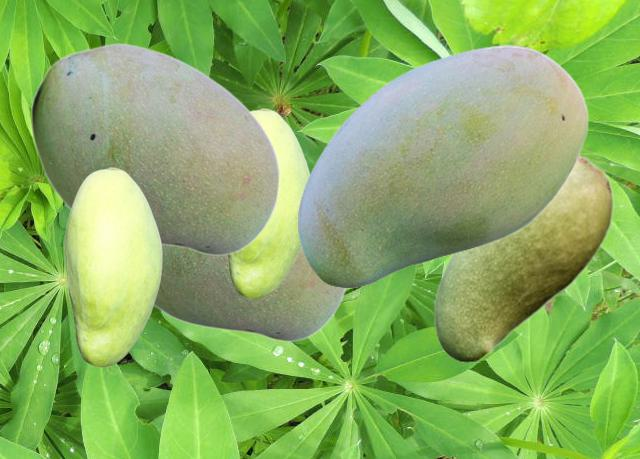green_mango: (297, 45, 588, 286), (30, 42, 279, 255), (433, 153, 613, 361), (64, 167, 161, 366), (154, 246, 348, 341), (227, 108, 309, 298)
